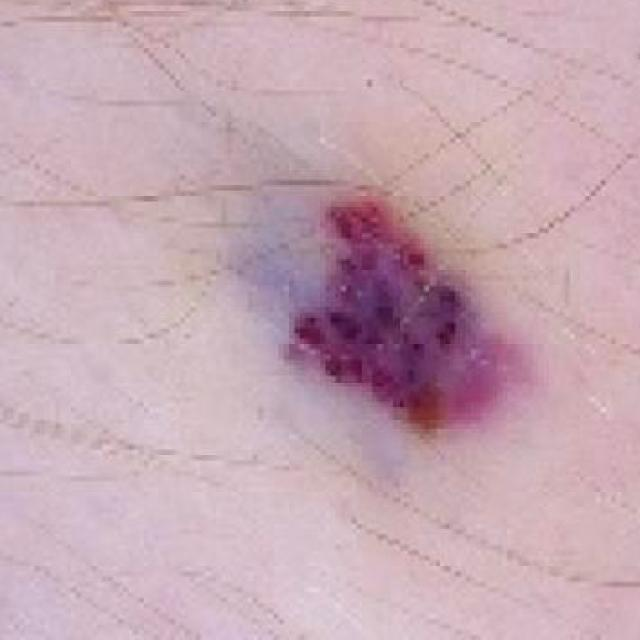VASC: (211, 91, 577, 467)
